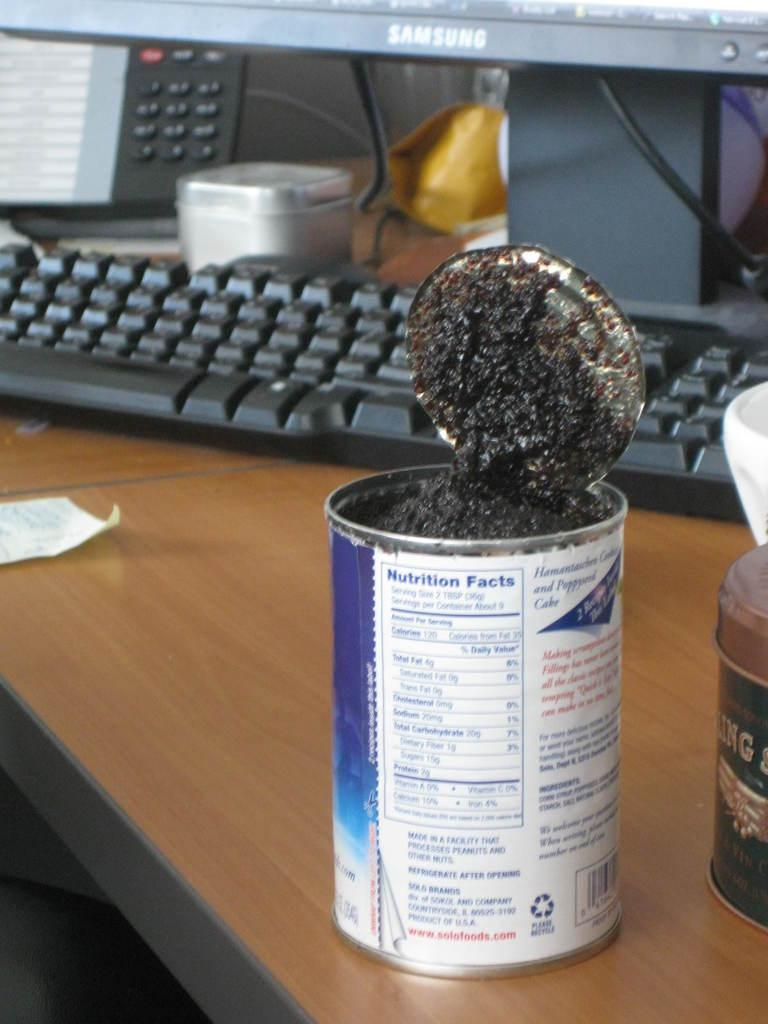Computer-keyboard: (0, 239, 767, 524)
